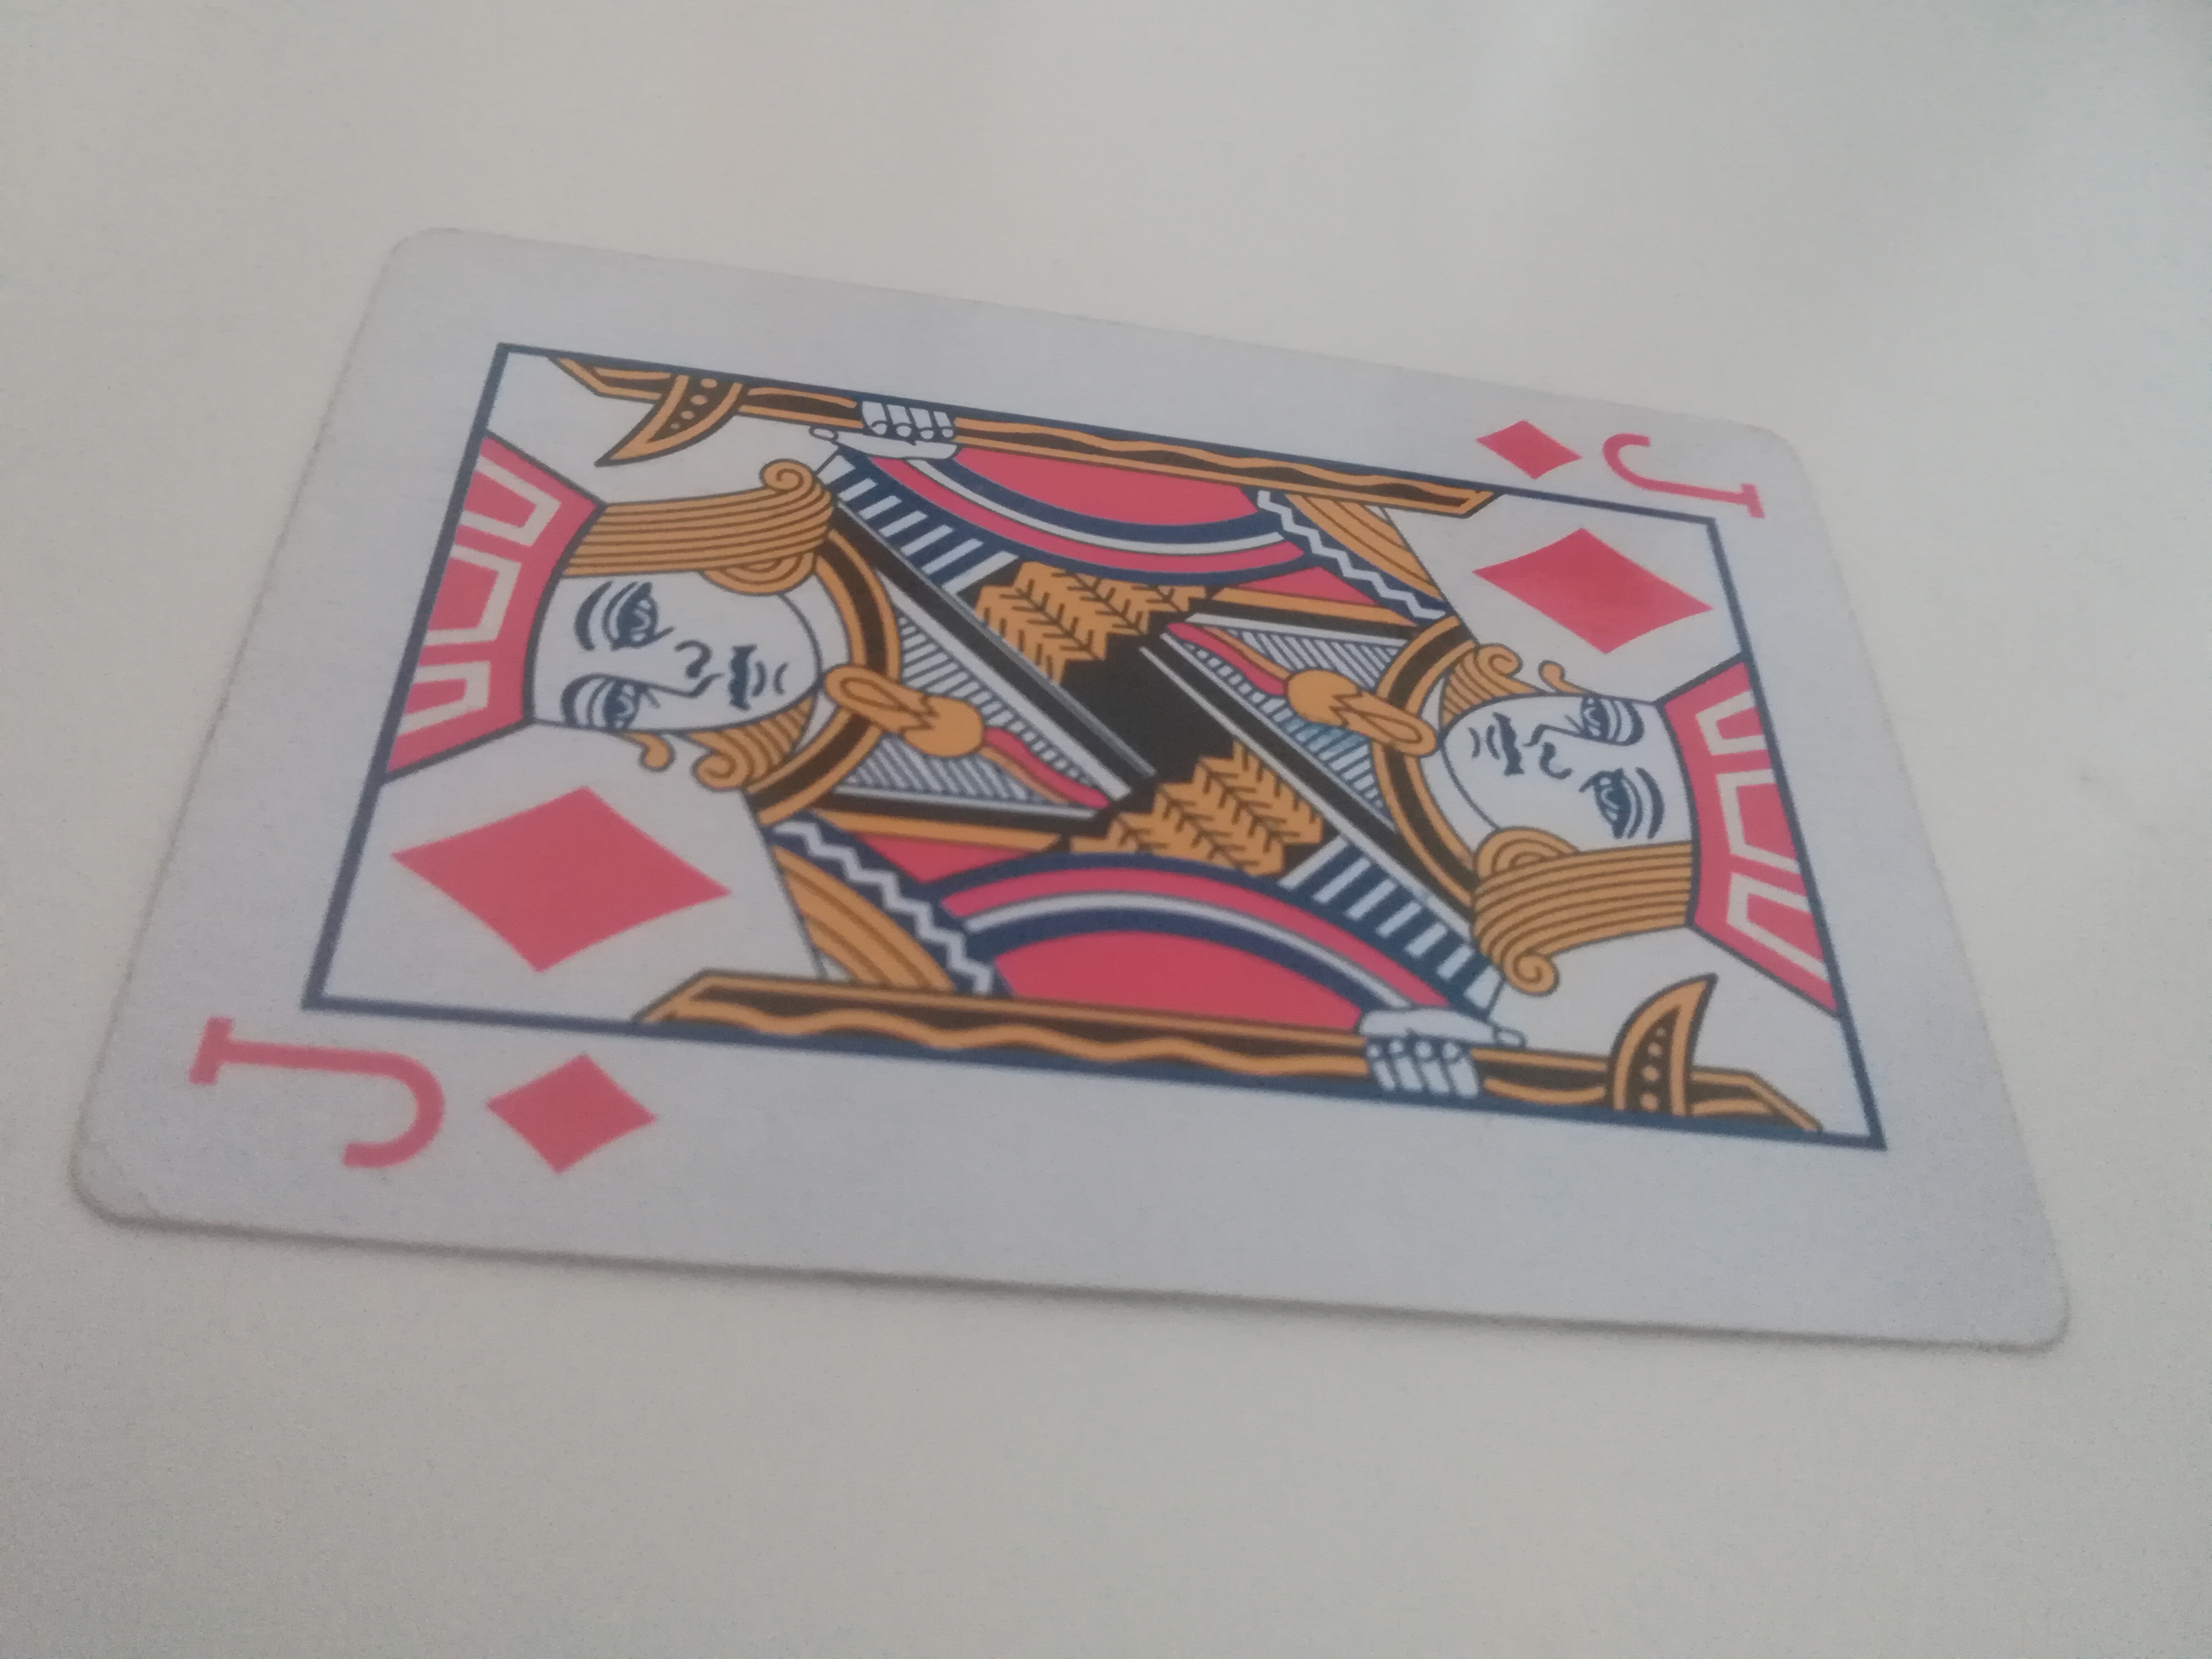JD: (63, 235, 2083, 1368)
